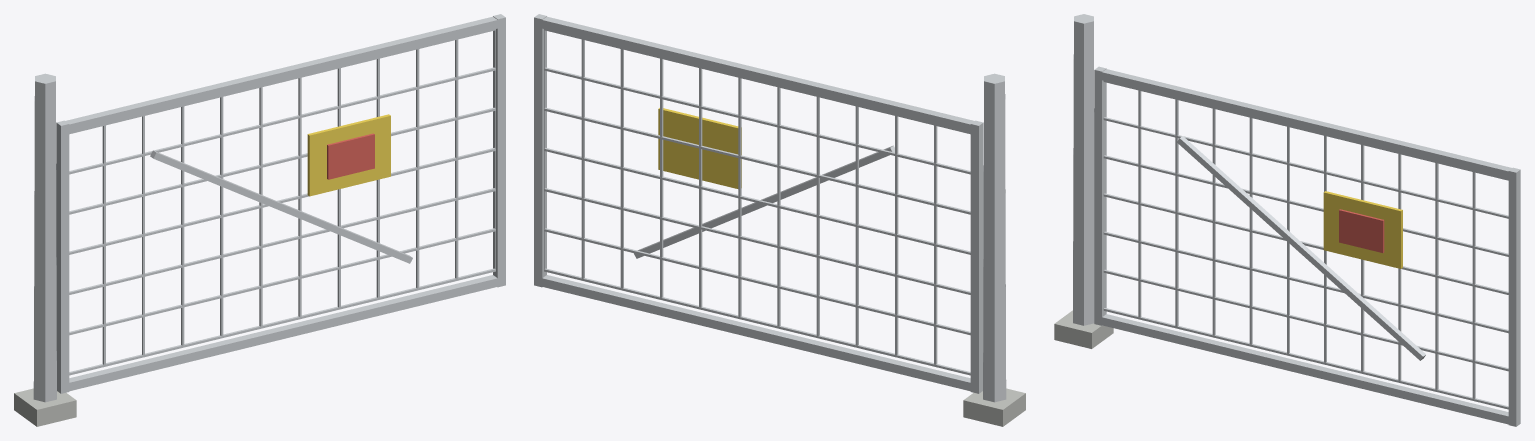
File: wind-and-solar-energy-farm-site-fence-gate-9bdaa13d__34072.glb
3 views of the same model, side by side, from view 1: azimuth 30°, elevation 25°; view 2: azimuth 150°, elevation 25°; view 3: azimuth 330°, elevation 25° (orthographic). The views are drawn at different scales.
Parts seen in each view (by area): view 1: gate/steel, site-fence-gate, gate/yellow, gate/red; view 2: gate/steel, site-fence-gate, gate/yellow; view 3: gate/steel, site-fence-gate, gate/yellow, gate/red.
Boxes of the visible parts, x1=… form: gate/steel: x1=56, y1=14, x2=505, y2=393; site-fence-gate: x1=14, y1=73, x2=76, y2=426; gate/yellow: x1=307, y1=114, x2=390, y2=196; gate/red: x1=327, y1=133, x2=374, y2=179; gate/steel: x1=534, y1=14, x2=983, y2=393; site-fence-gate: x1=963, y1=73, x2=1025, y2=426; gate/yellow: x1=658, y1=108, x2=741, y2=188; gate/steel: x1=1094, y1=66, x2=1520, y2=426; site-fence-gate: x1=1054, y1=14, x2=1113, y2=348; gate/yellow: x1=1323, y1=191, x2=1402, y2=268; gate/red: x1=1339, y1=209, x2=1384, y2=252.
Size of the model in its own units: 4.11 by 2.75 by 0.34.
